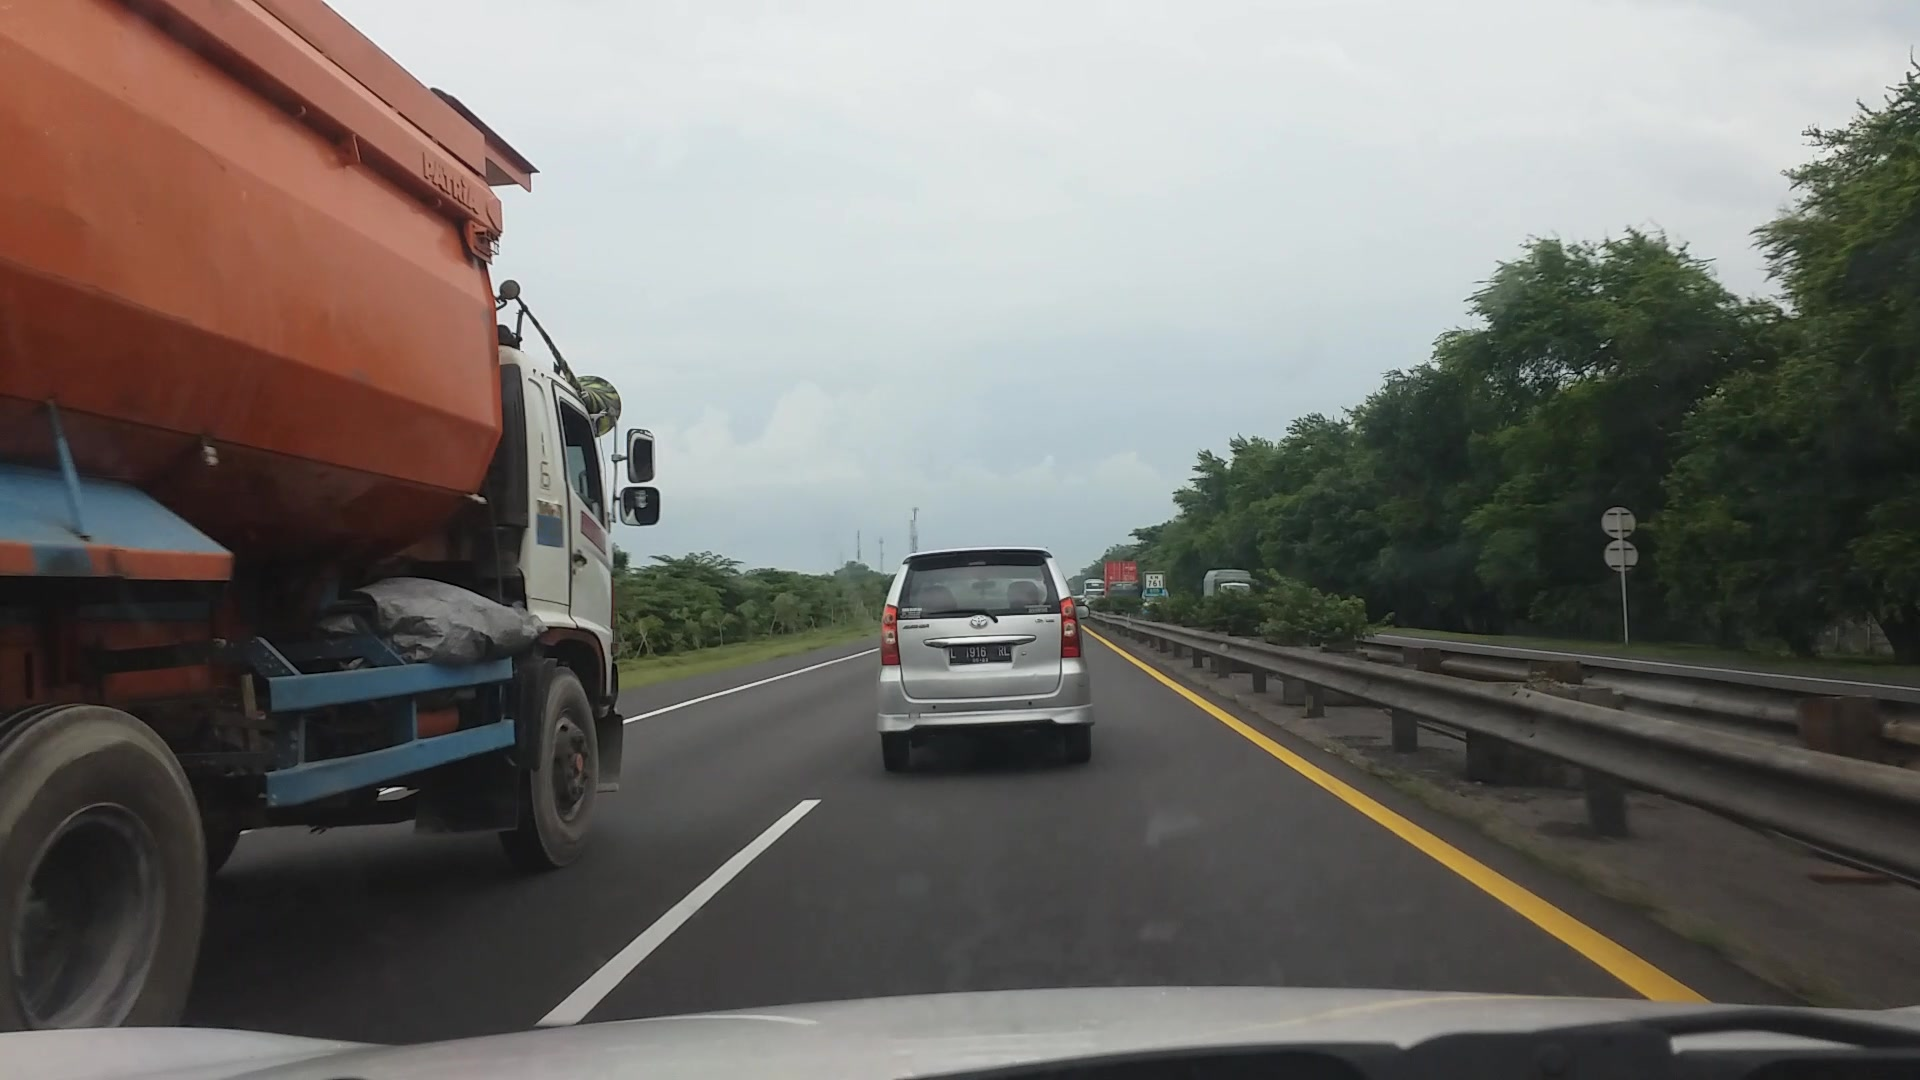plate_positive: (949, 644, 1011, 665)
